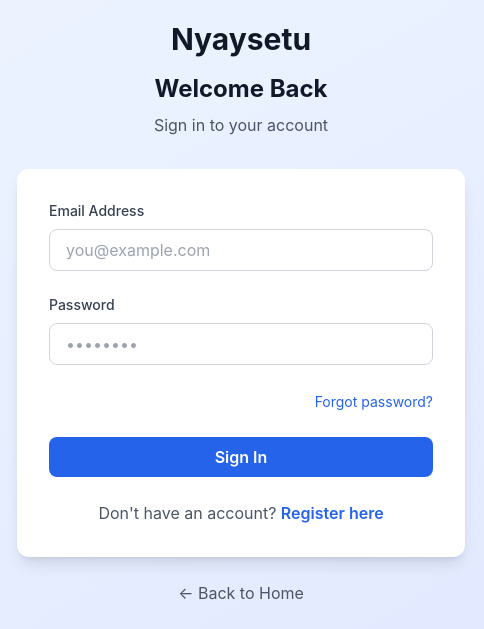
it: LoginPage › should display validation error for invalid email format
Type "invalid-email" into the field with placeholder "you@example.com".
click(241, 250); type("invalid-email")  # box [49,229,433,271]
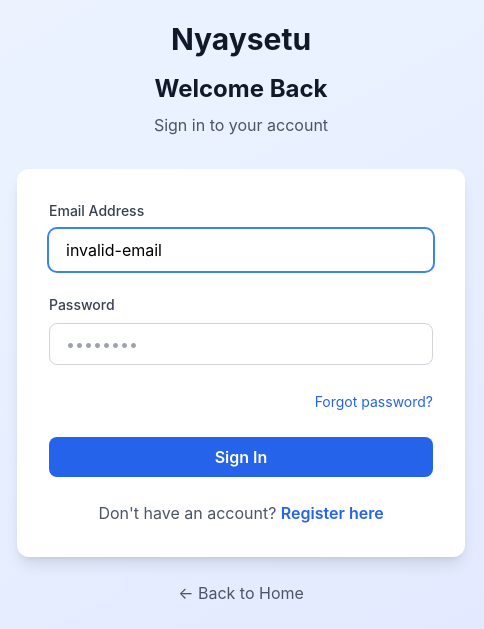
Type "password123" into the password field with placeholder "••••••••".
click(241, 344); type("password123")  # box [49,323,433,365]
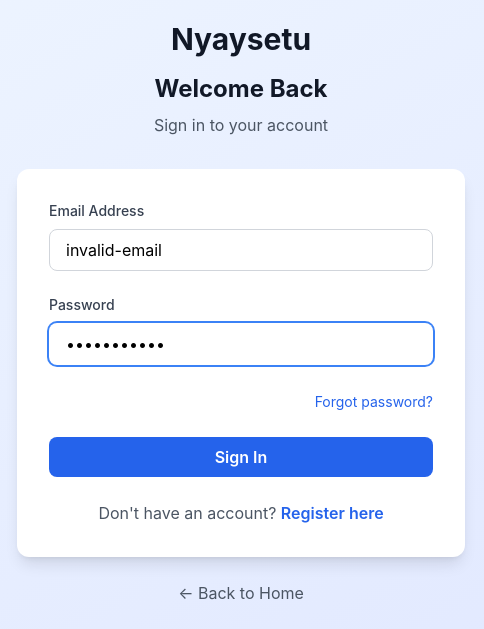
Click the button "Sign In".
click(241, 457)  # box [49,437,433,477]
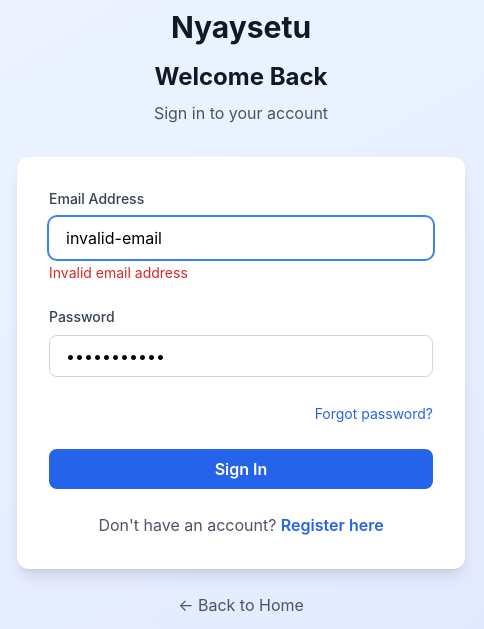
expect the text "Invalid email address" is shown: met, box [49,264,188,281]
